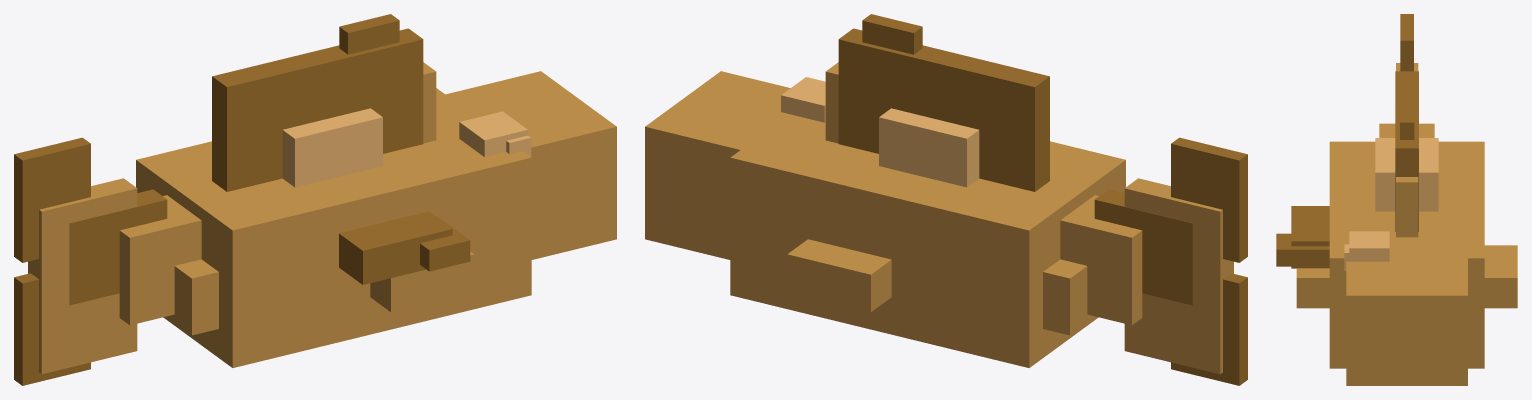
File: fish_gilt_slag.glb
The picture shows the model from 3 angles, left to right: view 1: azimuth 30°, elevation 25°; view 2: azimuth 150°, elevation 25°; view 3: azimuth 270°, elevation 25°; orthographic projection. The views are drawn at different scales.
Visible parts, largest first — view 1: FishArt_body, FishArt_dorsal, FishArt_tail, FishArt_pectoral, FishArt_specialty, FishArt_eye; view 2: FishArt_body, FishArt_dorsal, FishArt_tail, FishArt_specialty, FishArt_eye; view 3: FishArt_body, FishArt_specialty, FishArt_pectoral, FishArt_dorsal, FishArt_eye, FishArt_tail.
Boxes of the visible parts, box(x1,y1,x2,y2) form: FishArt_body: box(28, 62, 616, 374); FishArt_dorsal: box(212, 14, 423, 191); FishArt_tail: box(14, 137, 167, 385); FishArt_pectoral: box(339, 211, 470, 284); FishArt_specialty: box(282, 108, 382, 187); FishArt_eye: box(459, 111, 531, 156); FishArt_body: box(645, 62, 1233, 374); FishArt_dorsal: box(838, 14, 1049, 191); FishArt_tail: box(1094, 137, 1247, 385); FishArt_specialty: box(879, 108, 979, 187); FishArt_eye: box(781, 77, 825, 122); FishArt_body: box(1296, 63, 1517, 385); FishArt_specialty: box(1375, 138, 1438, 211); FishArt_pectoral: box(1276, 206, 1329, 268); FishArt_dorsal: box(1395, 71, 1418, 231); FishArt_eye: box(1344, 231, 1389, 270); FishArt_tail: box(1400, 14, 1413, 71).
Size of the model in its own units: 0.3091 by 0.1442 by 0.1439.
